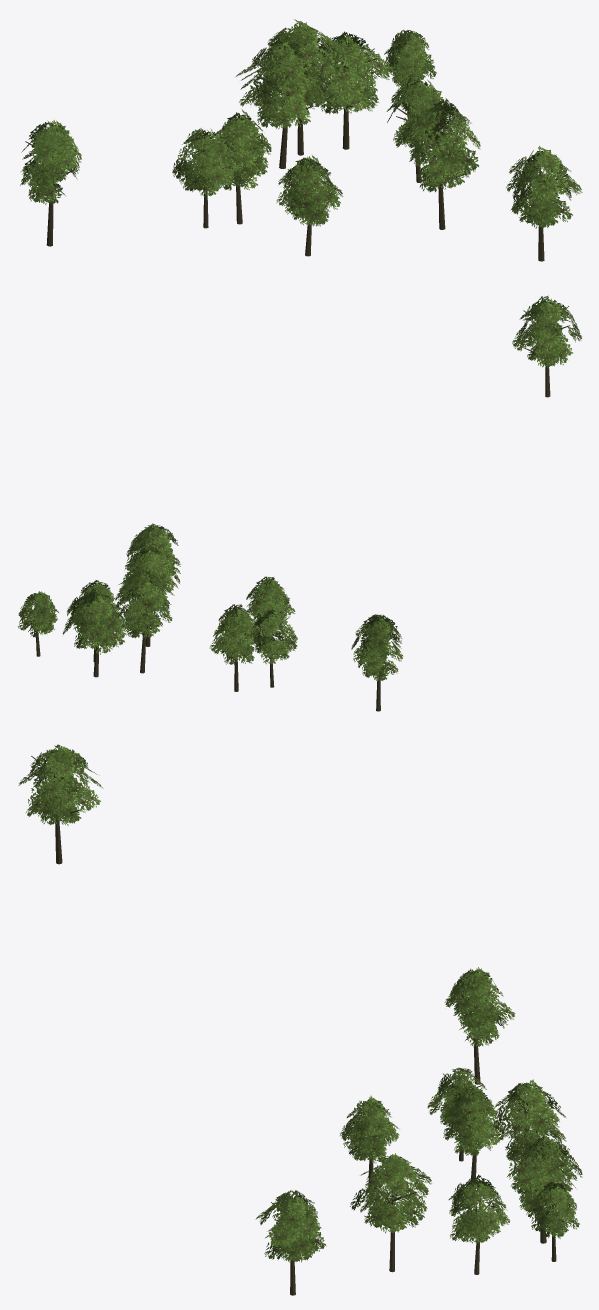
File: TRB8-FOREST-CHUNK-5-1.glb
3 renders of one model, top to bottom at view 1: azimuth 30°, elevation 25°; view 2: azimuth 150°, elevation 25°; view 3: azimuth 270°, elevation 25°, orthographic. The views are drawn at different scales.
Parts seen in each view (by area): view 1: TRB8-FOREST-CHUNK-5-1; view 2: TRB8-FOREST-CHUNK-5-1; view 3: TRB8-FOREST-CHUNK-5-1.
Boxes of the visible parts, <box> form: TRB8-FOREST-CHUNK-5-1: <box>20,19,582,261</box>; TRB8-FOREST-CHUNK-5-1: <box>18,295,581,711</box>; TRB8-FOREST-CHUNK-5-1: <box>18,744,582,1295</box>.
Size of the model in its own units: 20.84 by 17.5 by 23.93.
2 materials, 1 textured.
